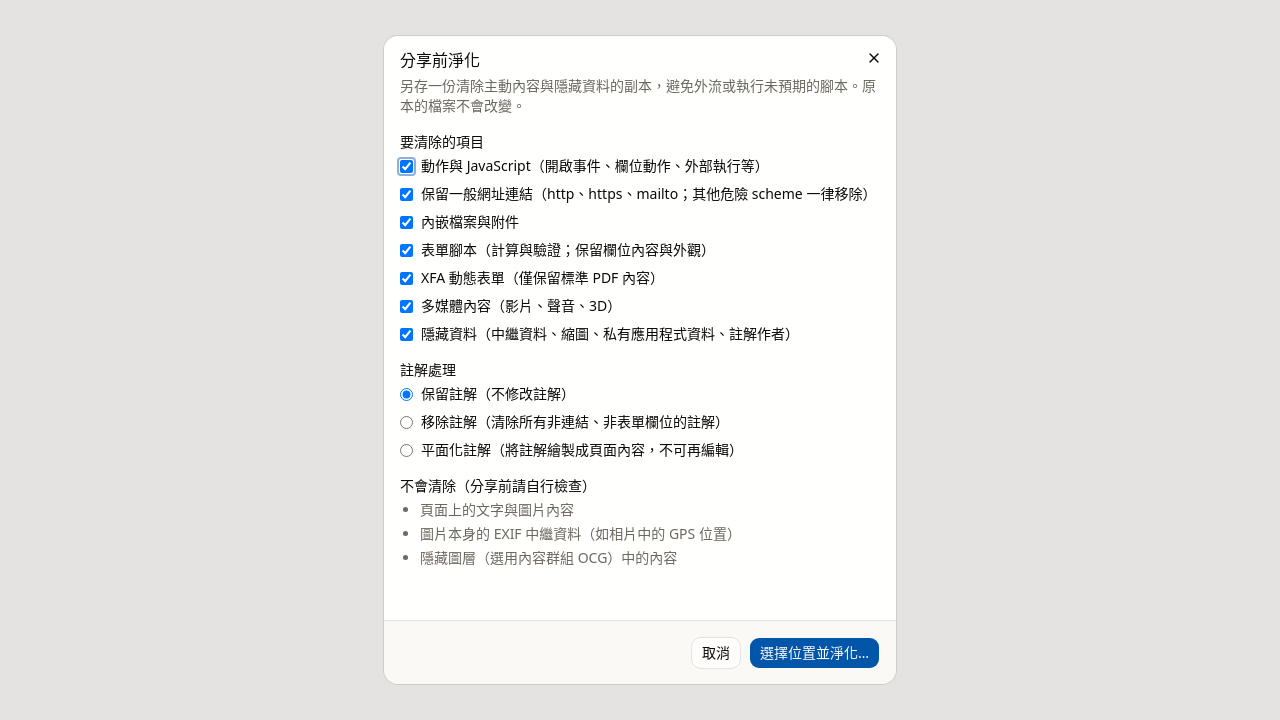
Test case: SanitizeDialog (B3-15) › displays error message on failure
Click the button "選擇位置並淨化…" at x=814, y=653, box [749, 637, 880, 669]
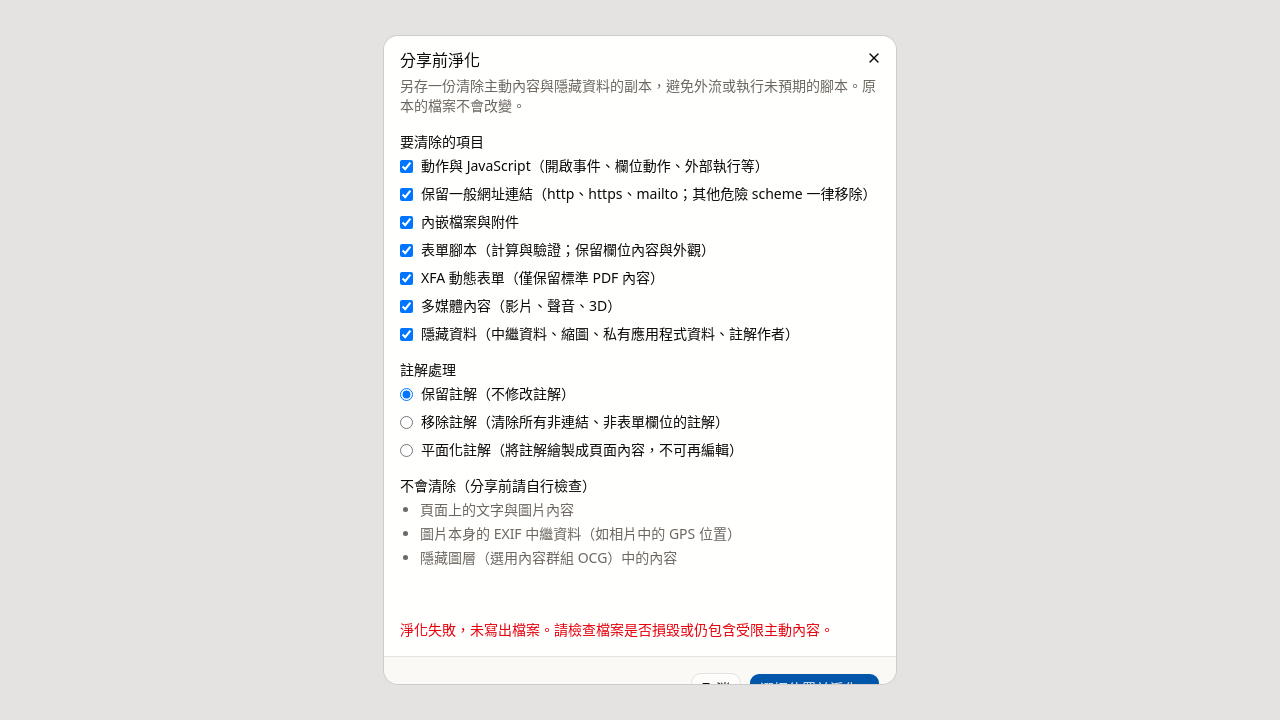
Now the message "淨化失敗，未寫出檔案。請檢查檔案是否損毀或仍包含受限主動內容。" is shown, box [400, 620, 880, 640]
